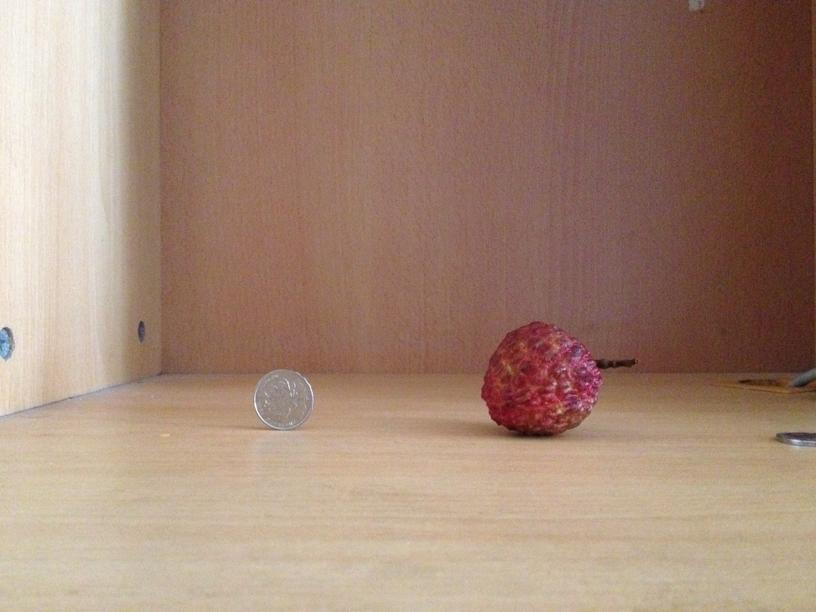coin: (251, 366, 315, 431)
litchi: (482, 320, 601, 437)
